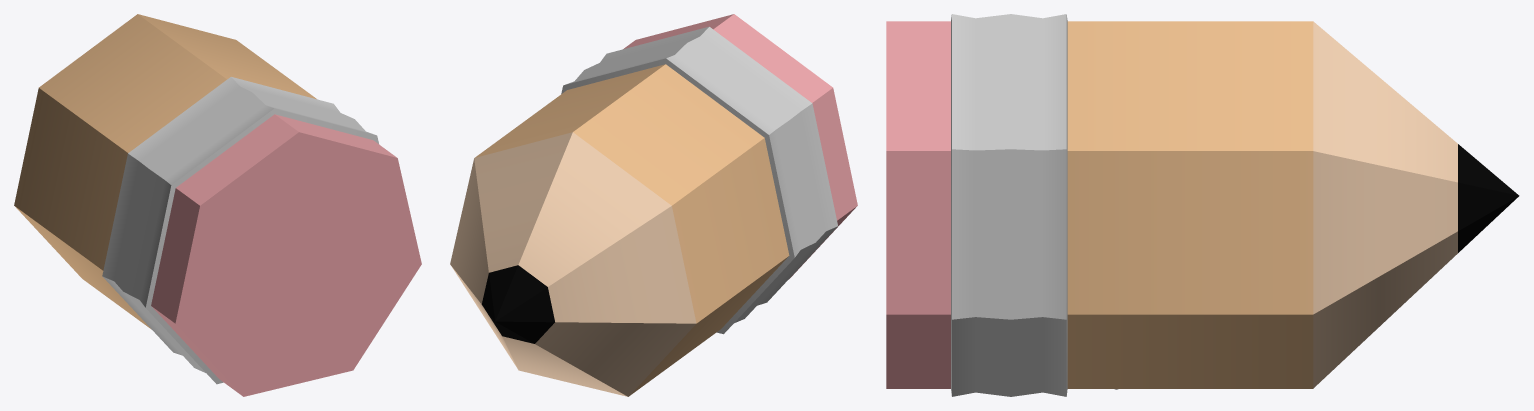
The model's file is enpi.fbx.
3 views of the same model, side by side, from view 1: azimuth 30°, elevation 25°; view 2: azimuth 150°, elevation 25°; view 3: azimuth 270°, elevation 25° (orthographic). The views are drawn at different scales.
Parts seen in each view (by area): view 1: pCylinder1; view 2: pCylinder1; view 3: pCylinder1.
Part boxes in pixels (<box>): pCylinder1: <box>14,14,421,396</box>; pCylinder1: <box>450,14,857,396</box>; pCylinder1: <box>886,14,1519,396</box>.
Size of the model in its own units: 4.46 by 4.41 by 7.21.
